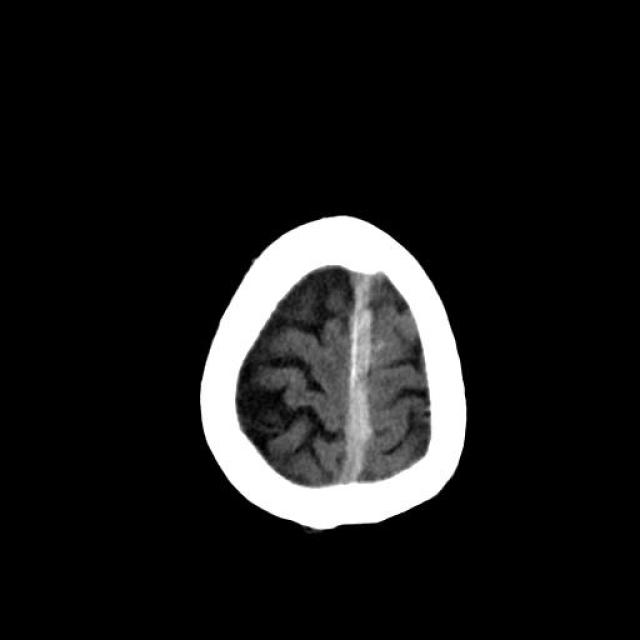Subdural: (320, 259, 395, 506)
